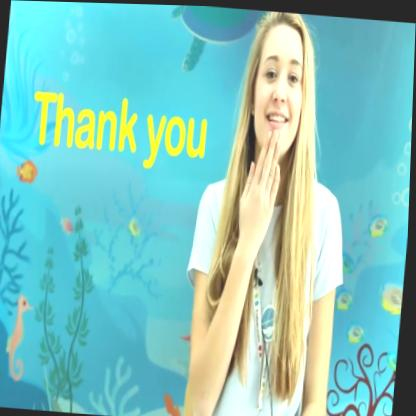ThankYou: (192, 5, 329, 416)
